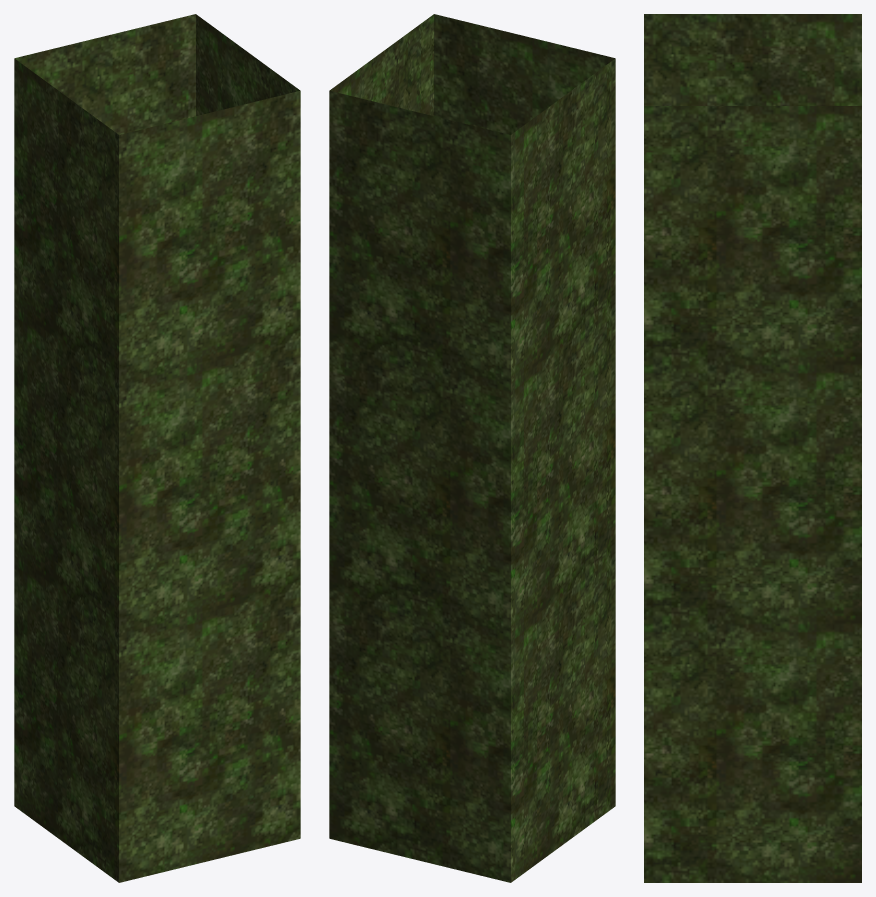
File: OVERHILL_A_01_LINE146.fbx
3 renders of one model, left to right at view 1: azimuth 30°, elevation 25°; view 2: azimuth 150°, elevation 25°; view 3: azimuth 270°, elevation 25°, orthographic. The views are drawn at different scales.
Visible parts, largest first — view 1: OVERHILL_A_01_LINE146; view 2: OVERHILL_A_01_LINE146; view 3: OVERHILL_A_01_LINE146.
Boxes of the visible parts, box(x1,y1,x2,y2) form: OVERHILL_A_01_LINE146: box(14, 14, 300, 882); OVERHILL_A_01_LINE146: box(329, 14, 615, 882); OVERHILL_A_01_LINE146: box(644, 14, 861, 882).
Bounding box in the file's own units: 17889 × 70450 × 17889.
Materials: 1 (1 with a texture image).
